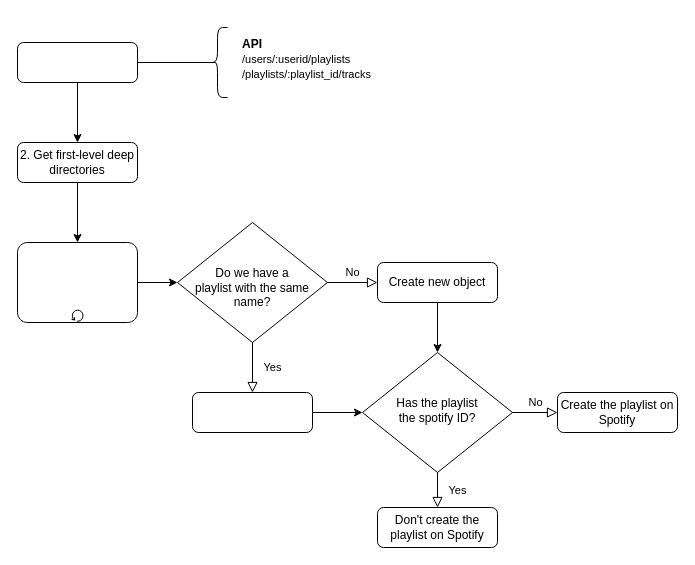
Image size: 695x565. Some labels were removed from this diagram. Each missing label, with the centre of its shape:
"1. Get remote playlists" belongs at pixel 77 62.
"For each directory" belongs at pixel 77 282.
"Reuse playlist object" belongs at pixel 252 412.
